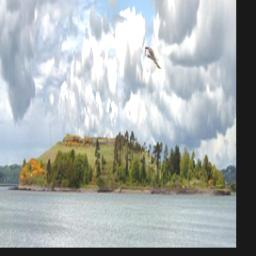Cuckoo: (145, 46, 162, 69)
